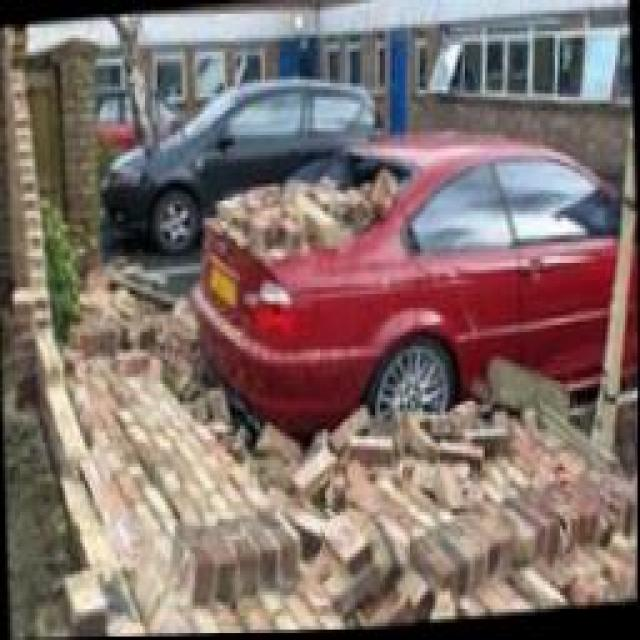Windshield: (271, 148, 412, 238)
